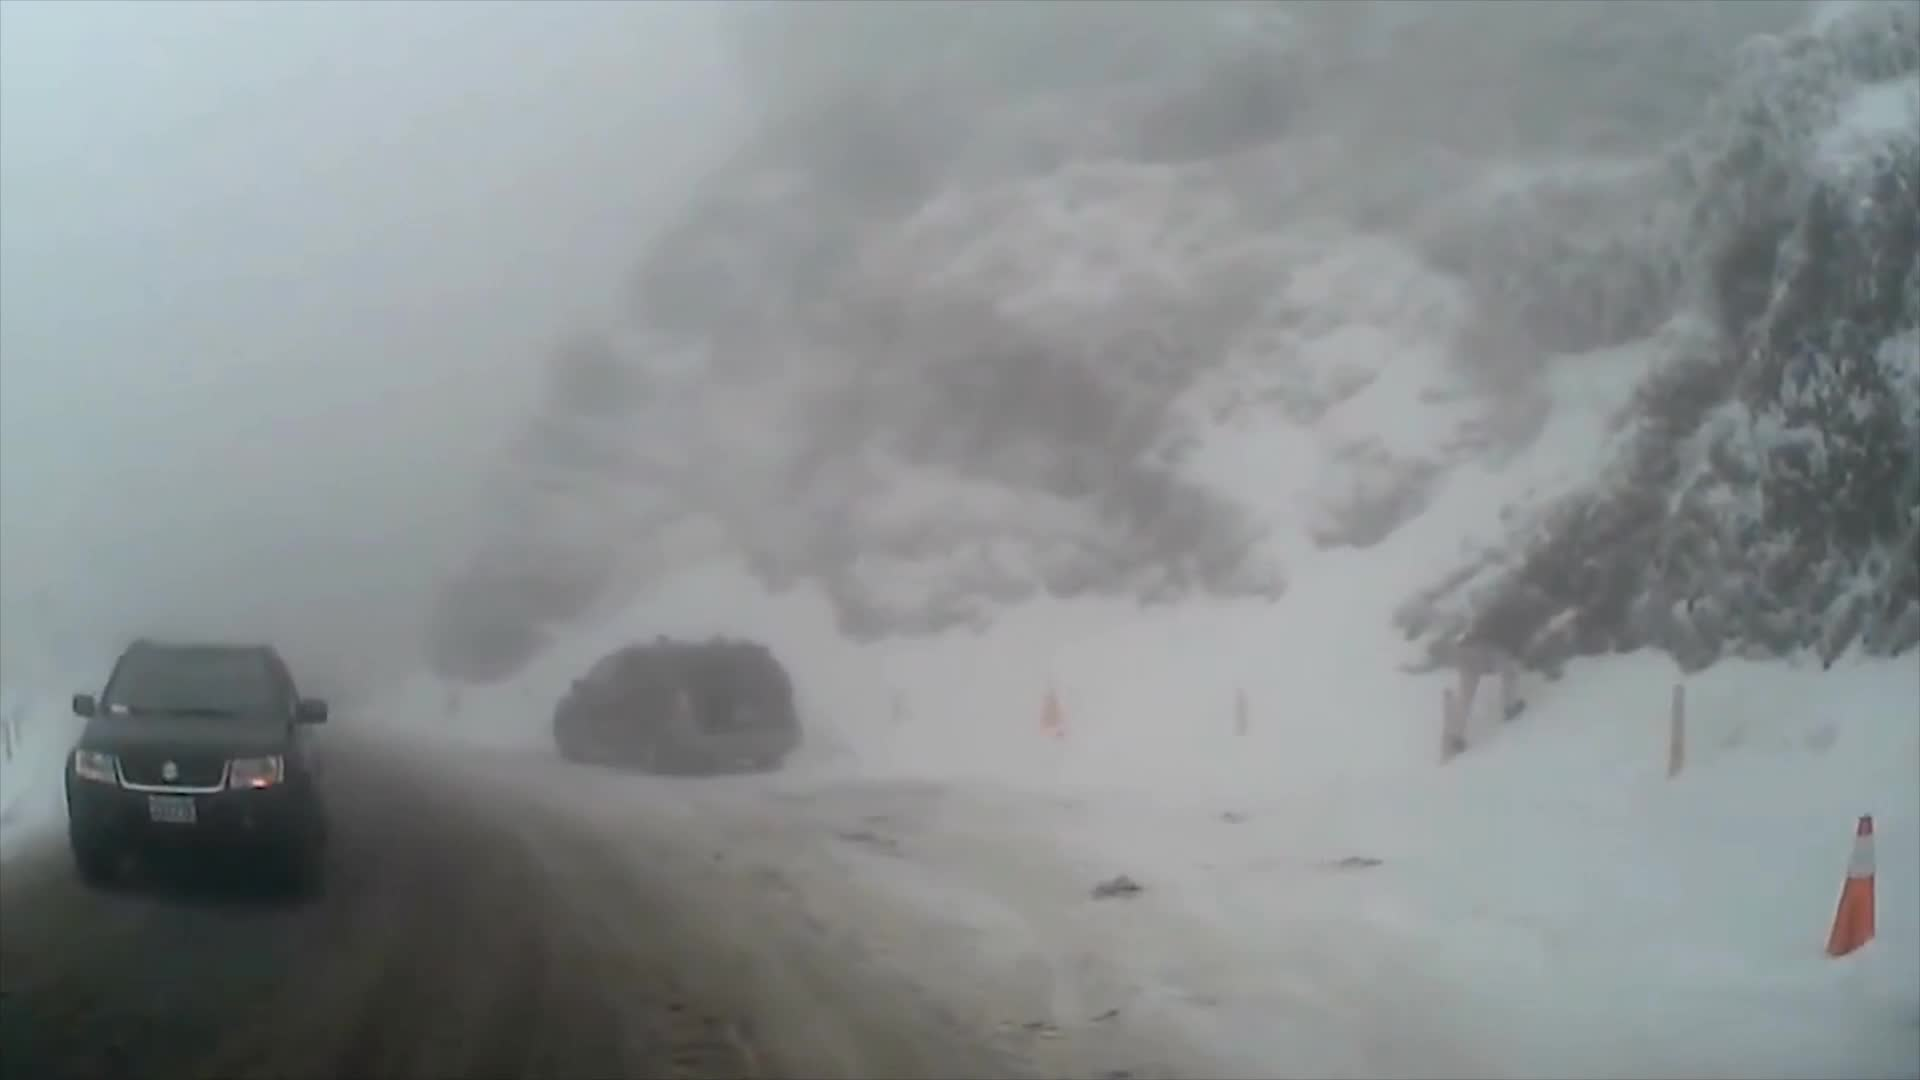vehicle: (61, 634, 332, 891), (553, 637, 800, 775)
